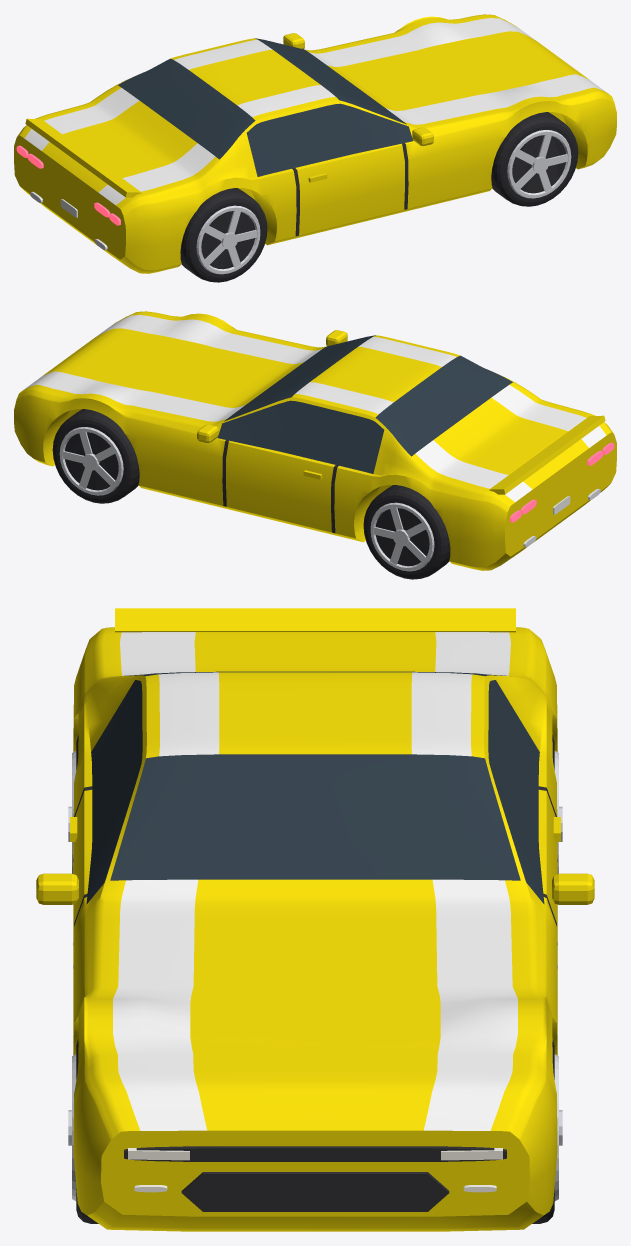
File: chevy_kamaro.fbx
3 renders of one model, top to bottom at view 1: azimuth 30°, elevation 25°; view 2: azimuth 150°, elevation 25°; view 3: azimuth 270°, elevation 25°, orthographic. The views are drawn at different scales.
Visible parts, largest first — view 1: Body.027, Glass.027, Stripe.004, Tire.027, Rim.027, Trim.027, TailLight.027; view 2: Body.027, Glass.027, Stripe.004, Tire.027, Rim.027, Trim.027, TailLight.027; view 3: Body.027, Glass.027, Stripe.004, Trim.027, Rim.027, HeadLight.027.
Boxes of the visible parts, box(x1,y1,x2,y2) form: Body.027: box(14, 14, 616, 273); Glass.027: box(118, 38, 413, 176); Stripe.004: box(24, 18, 606, 205); Tire.027: box(180, 112, 578, 282); Rim.027: box(196, 130, 571, 274); Trim.027: box(202, 135, 563, 268); TailLight.027: box(16, 145, 120, 225); Body.027: box(14, 311, 616, 570); Glass.027: box(217, 335, 512, 473); Stripe.004: box(24, 315, 606, 502); Tire.027: box(52, 409, 450, 579); Rim.027: box(59, 427, 434, 571); Trim.027: box(65, 434, 429, 564); TailLight.027: box(510, 442, 614, 522); Body.027: box(36, 608, 594, 1231); Glass.027: box(86, 671, 544, 904); Stripe.004: box(113, 632, 517, 1130); Trim.027: box(73, 786, 557, 1211); Rim.027: box(68, 751, 562, 1201); HeadLight.027: box(128, 1148, 502, 1192).
Size of the model in its own units: 1617 by 441 by 784.
